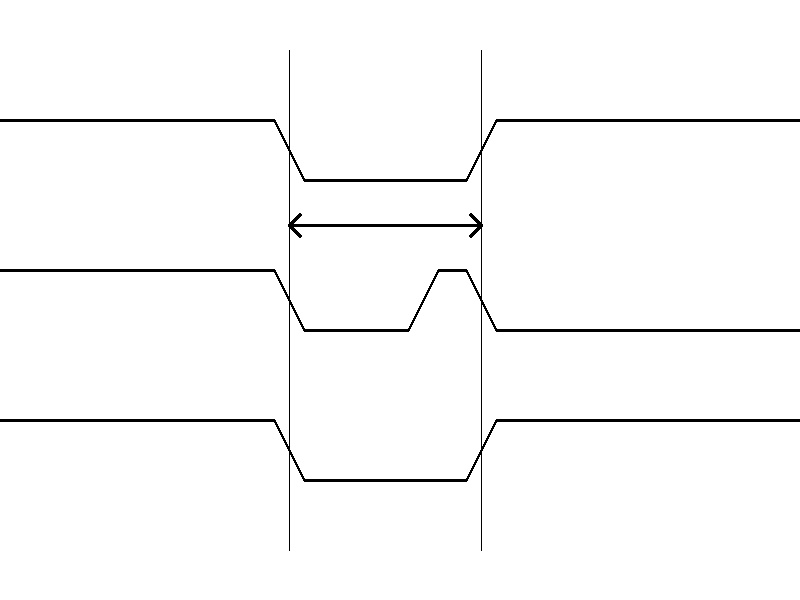double_arrow: (289, 210, 481, 240)
